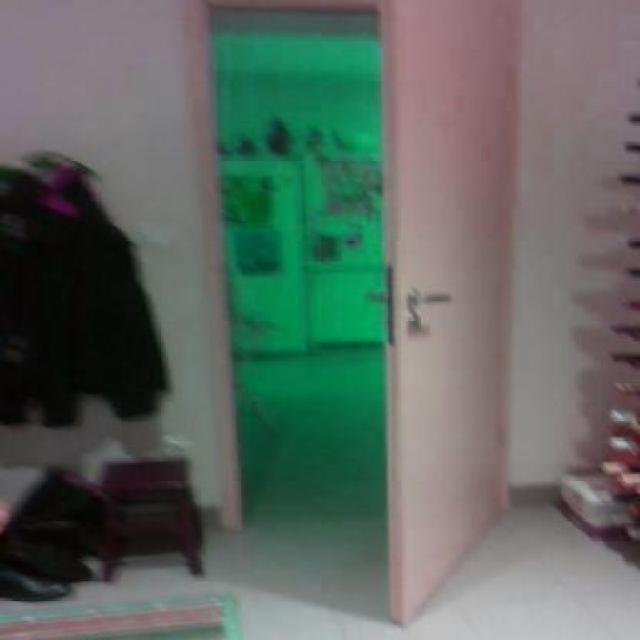door_handle: (405, 284, 462, 310)
